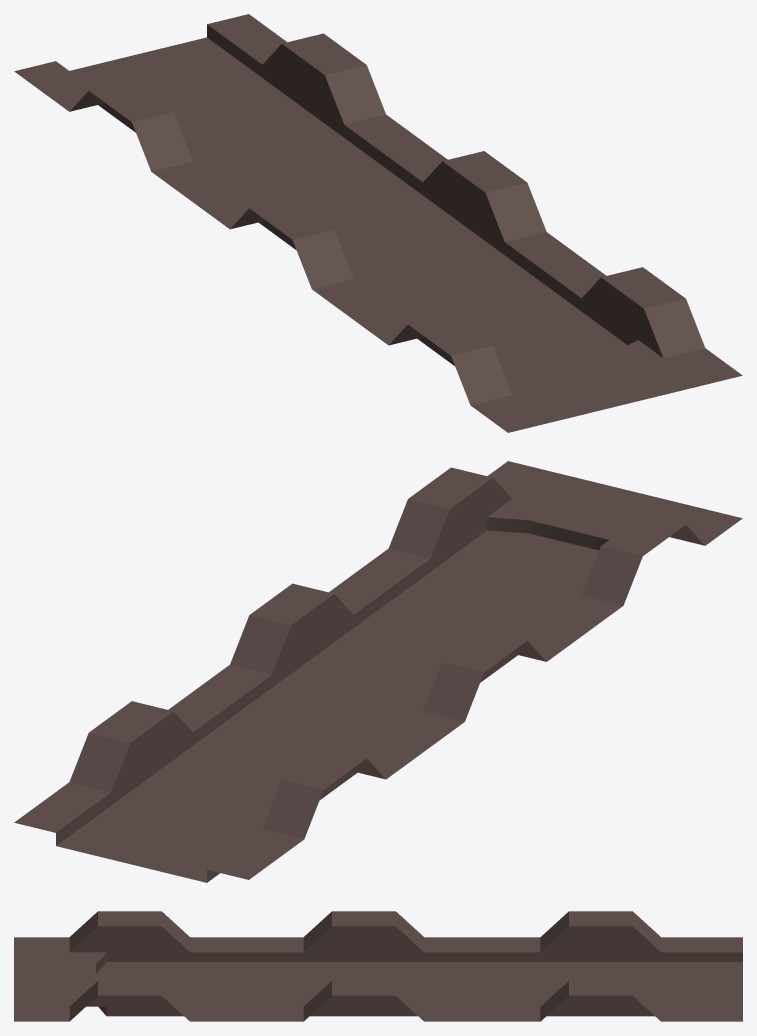
Rendered from floor.glb.
The picture shows the model from 3 angles, top to bottom: view 1: azimuth 30°, elevation 25°; view 2: azimuth 150°, elevation 25°; view 3: azimuth 270°, elevation 25°; orthographic projection. The views are drawn at different scales.
Parts seen in each view (by area): view 1: floor.001; view 2: floor.001; view 3: floor.001.
Part boxes in pixels (x1,y1,x2,y2): floor.001: [14, 14, 742, 432]; floor.001: [14, 461, 742, 882]; floor.001: [14, 911, 742, 1021].
Size of the model in its own units: 2.8 by 0.5525 by 10.21.
